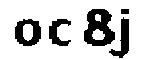8: (83, 7, 116, 49)
c: (48, 18, 73, 50)
j: (112, 7, 136, 59)
o: (11, 16, 42, 50)
